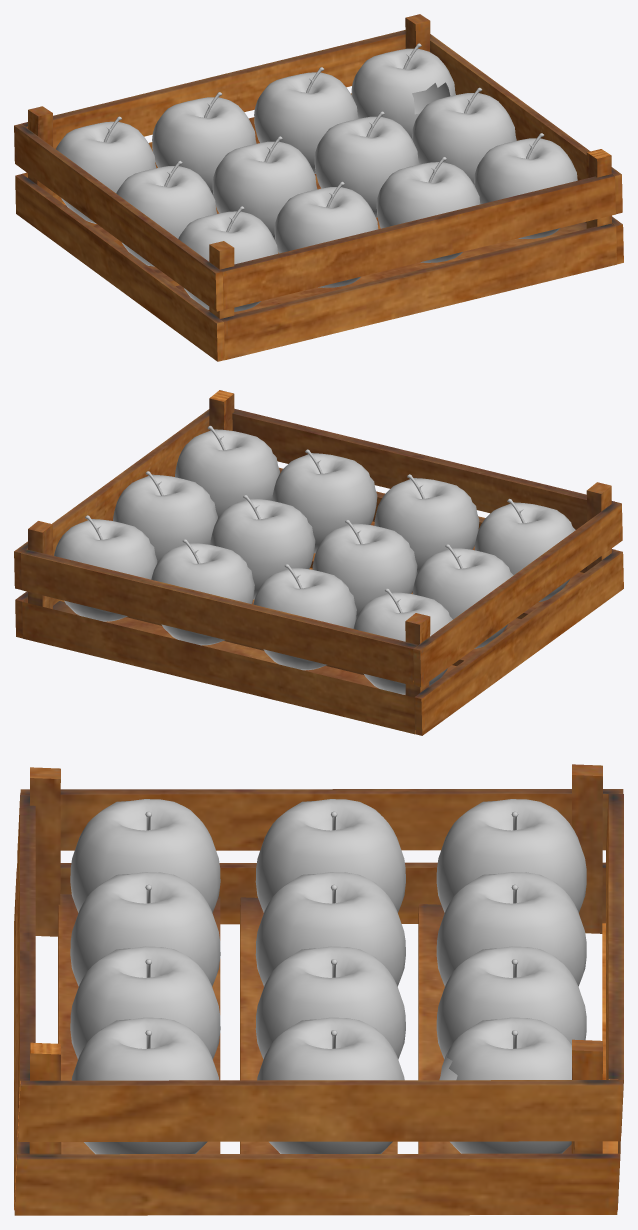
Rendered from Apple.fbx.
3 views of the same model, one above another, from view 1: azimuth 30°, elevation 25°; view 2: azimuth 150°, elevation 25°; view 3: azimuth 270°, elevation 25° (orthographic). The views are drawn at different scales.
Parts seen in each view (by area): view 1: Rack.004, Apple.006, Apple.005, Apple.002, Apple.001, Apple.008, Apple.004, Apple.009, Apple.010, Apple.012, Apple.007, Apple.003 (+1 smaller); view 2: Rack.004, Apple.010, Apple.009, Apple.006, Apple.005, Apple.012, Apple.008, Apple.002, Apple.001, Apple.004, Apple.011, Apple.007 (+1 smaller); view 3: Rack.004, Apple.001, Apple.009, Apple.005, Apple.003, Apple.011, Apple.007, Apple.010, Apple.006, Apple.002, Apple.008, Apple.012 (+1 smaller).
Part boxes in pixels (bbox=[...]): Rack.004: bbox=[14, 14, 623, 361]; Apple.006: bbox=[314, 111, 419, 217]; Apple.005: bbox=[212, 136, 317, 241]; Apple.002: bbox=[254, 67, 358, 173]; Apple.001: bbox=[152, 92, 256, 195]; Apple.008: bbox=[412, 87, 516, 184]; Apple.004: bbox=[351, 43, 455, 139]; Apple.009: bbox=[274, 181, 378, 287]; Apple.010: bbox=[376, 157, 480, 262]; Apple.012: bbox=[474, 133, 577, 239]; Apple.007: bbox=[116, 160, 216, 266]; Apple.003: bbox=[56, 116, 156, 223]; Rack.004: bbox=[14, 390, 623, 735]; Apple.010: bbox=[272, 449, 377, 553]; Apple.009: bbox=[374, 474, 479, 574]; Apple.006: bbox=[210, 495, 315, 599]; Apple.005: bbox=[312, 519, 417, 618]; Apple.012: bbox=[175, 425, 279, 518]; Apple.008: bbox=[113, 471, 217, 562]; Apple.002: bbox=[151, 539, 254, 645]; Apple.001: bbox=[253, 564, 356, 670]; Apple.004: bbox=[54, 515, 157, 621]; Apple.011: bbox=[474, 498, 575, 601]; Apple.007: bbox=[412, 544, 513, 648]; Rack.004: bbox=[14, 764, 623, 1215]; Apple.001: bbox=[436, 872, 586, 986]; Apple.009: bbox=[70, 872, 220, 986]; Apple.005: bbox=[255, 872, 405, 986]; Apple.003: bbox=[436, 799, 586, 912]; Apple.011: bbox=[70, 799, 220, 912]; Apple.007: bbox=[255, 799, 405, 912]; Apple.010: bbox=[70, 946, 220, 1059]; Apple.006: bbox=[255, 946, 405, 1059]; Apple.002: bbox=[436, 946, 586, 1059]; Apple.008: bbox=[257, 1017, 404, 1153]; Apple.012: bbox=[71, 1017, 219, 1154].
Bounding box in the file's own units: 0.6471 × 0.1649 × 0.563.
